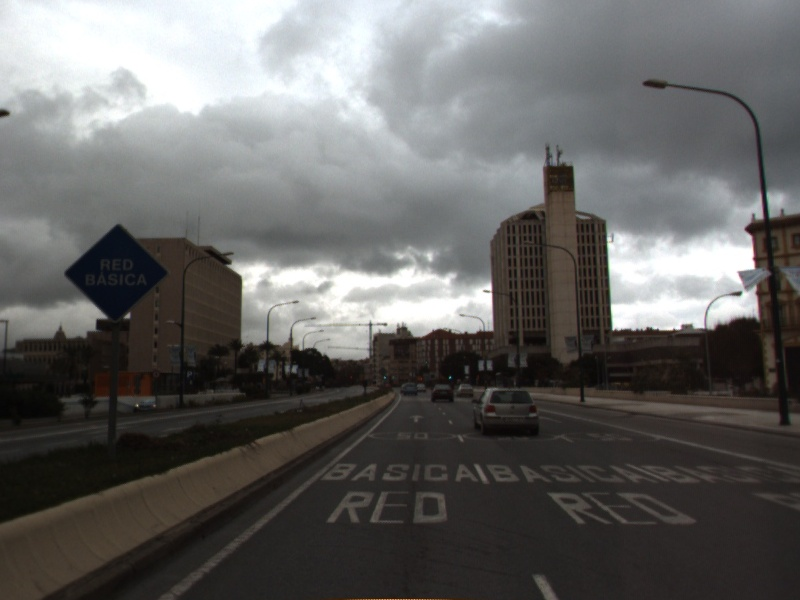STRAIGHT: (407, 412, 427, 425)
